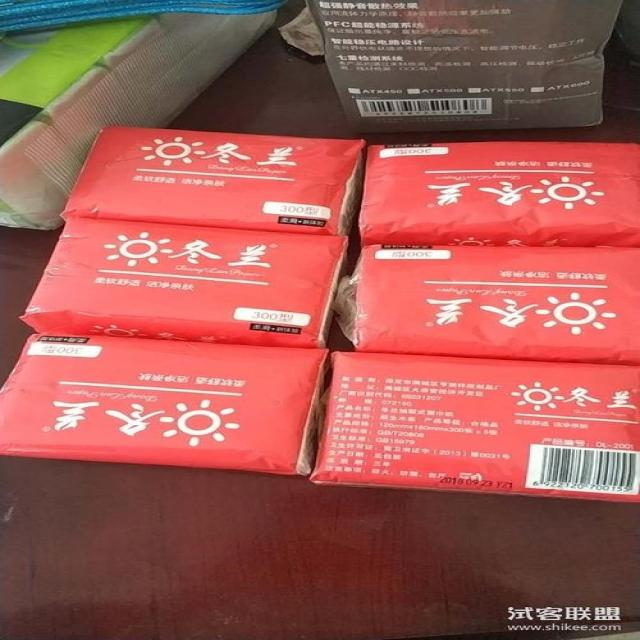box: (1, 9, 280, 229), (308, 349, 640, 502), (0, 333, 332, 476), (22, 215, 356, 349), (305, 1, 626, 134), (334, 245, 639, 365), (64, 126, 369, 237), (356, 140, 639, 246)
